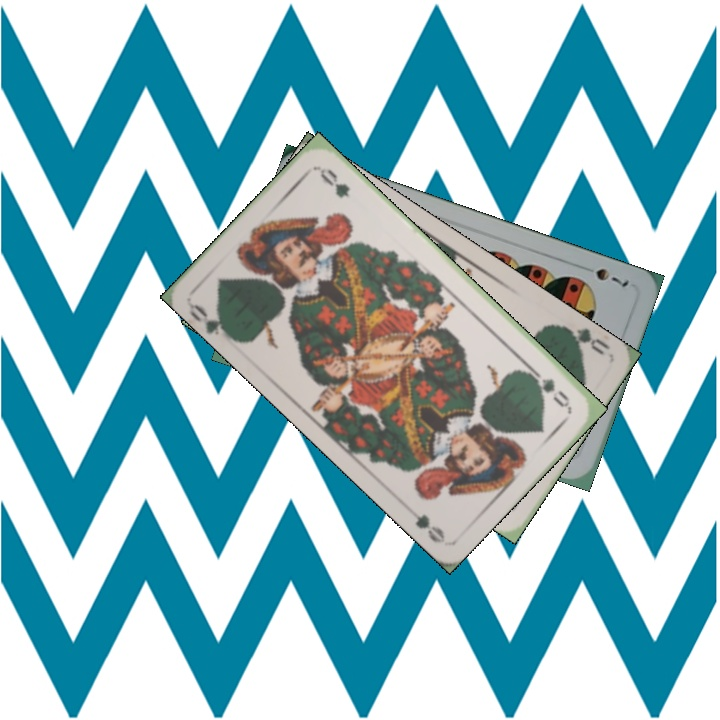GO: (523, 364, 573, 411), (185, 299, 236, 342), (557, 321, 613, 358)
S7: (591, 264, 632, 290)
